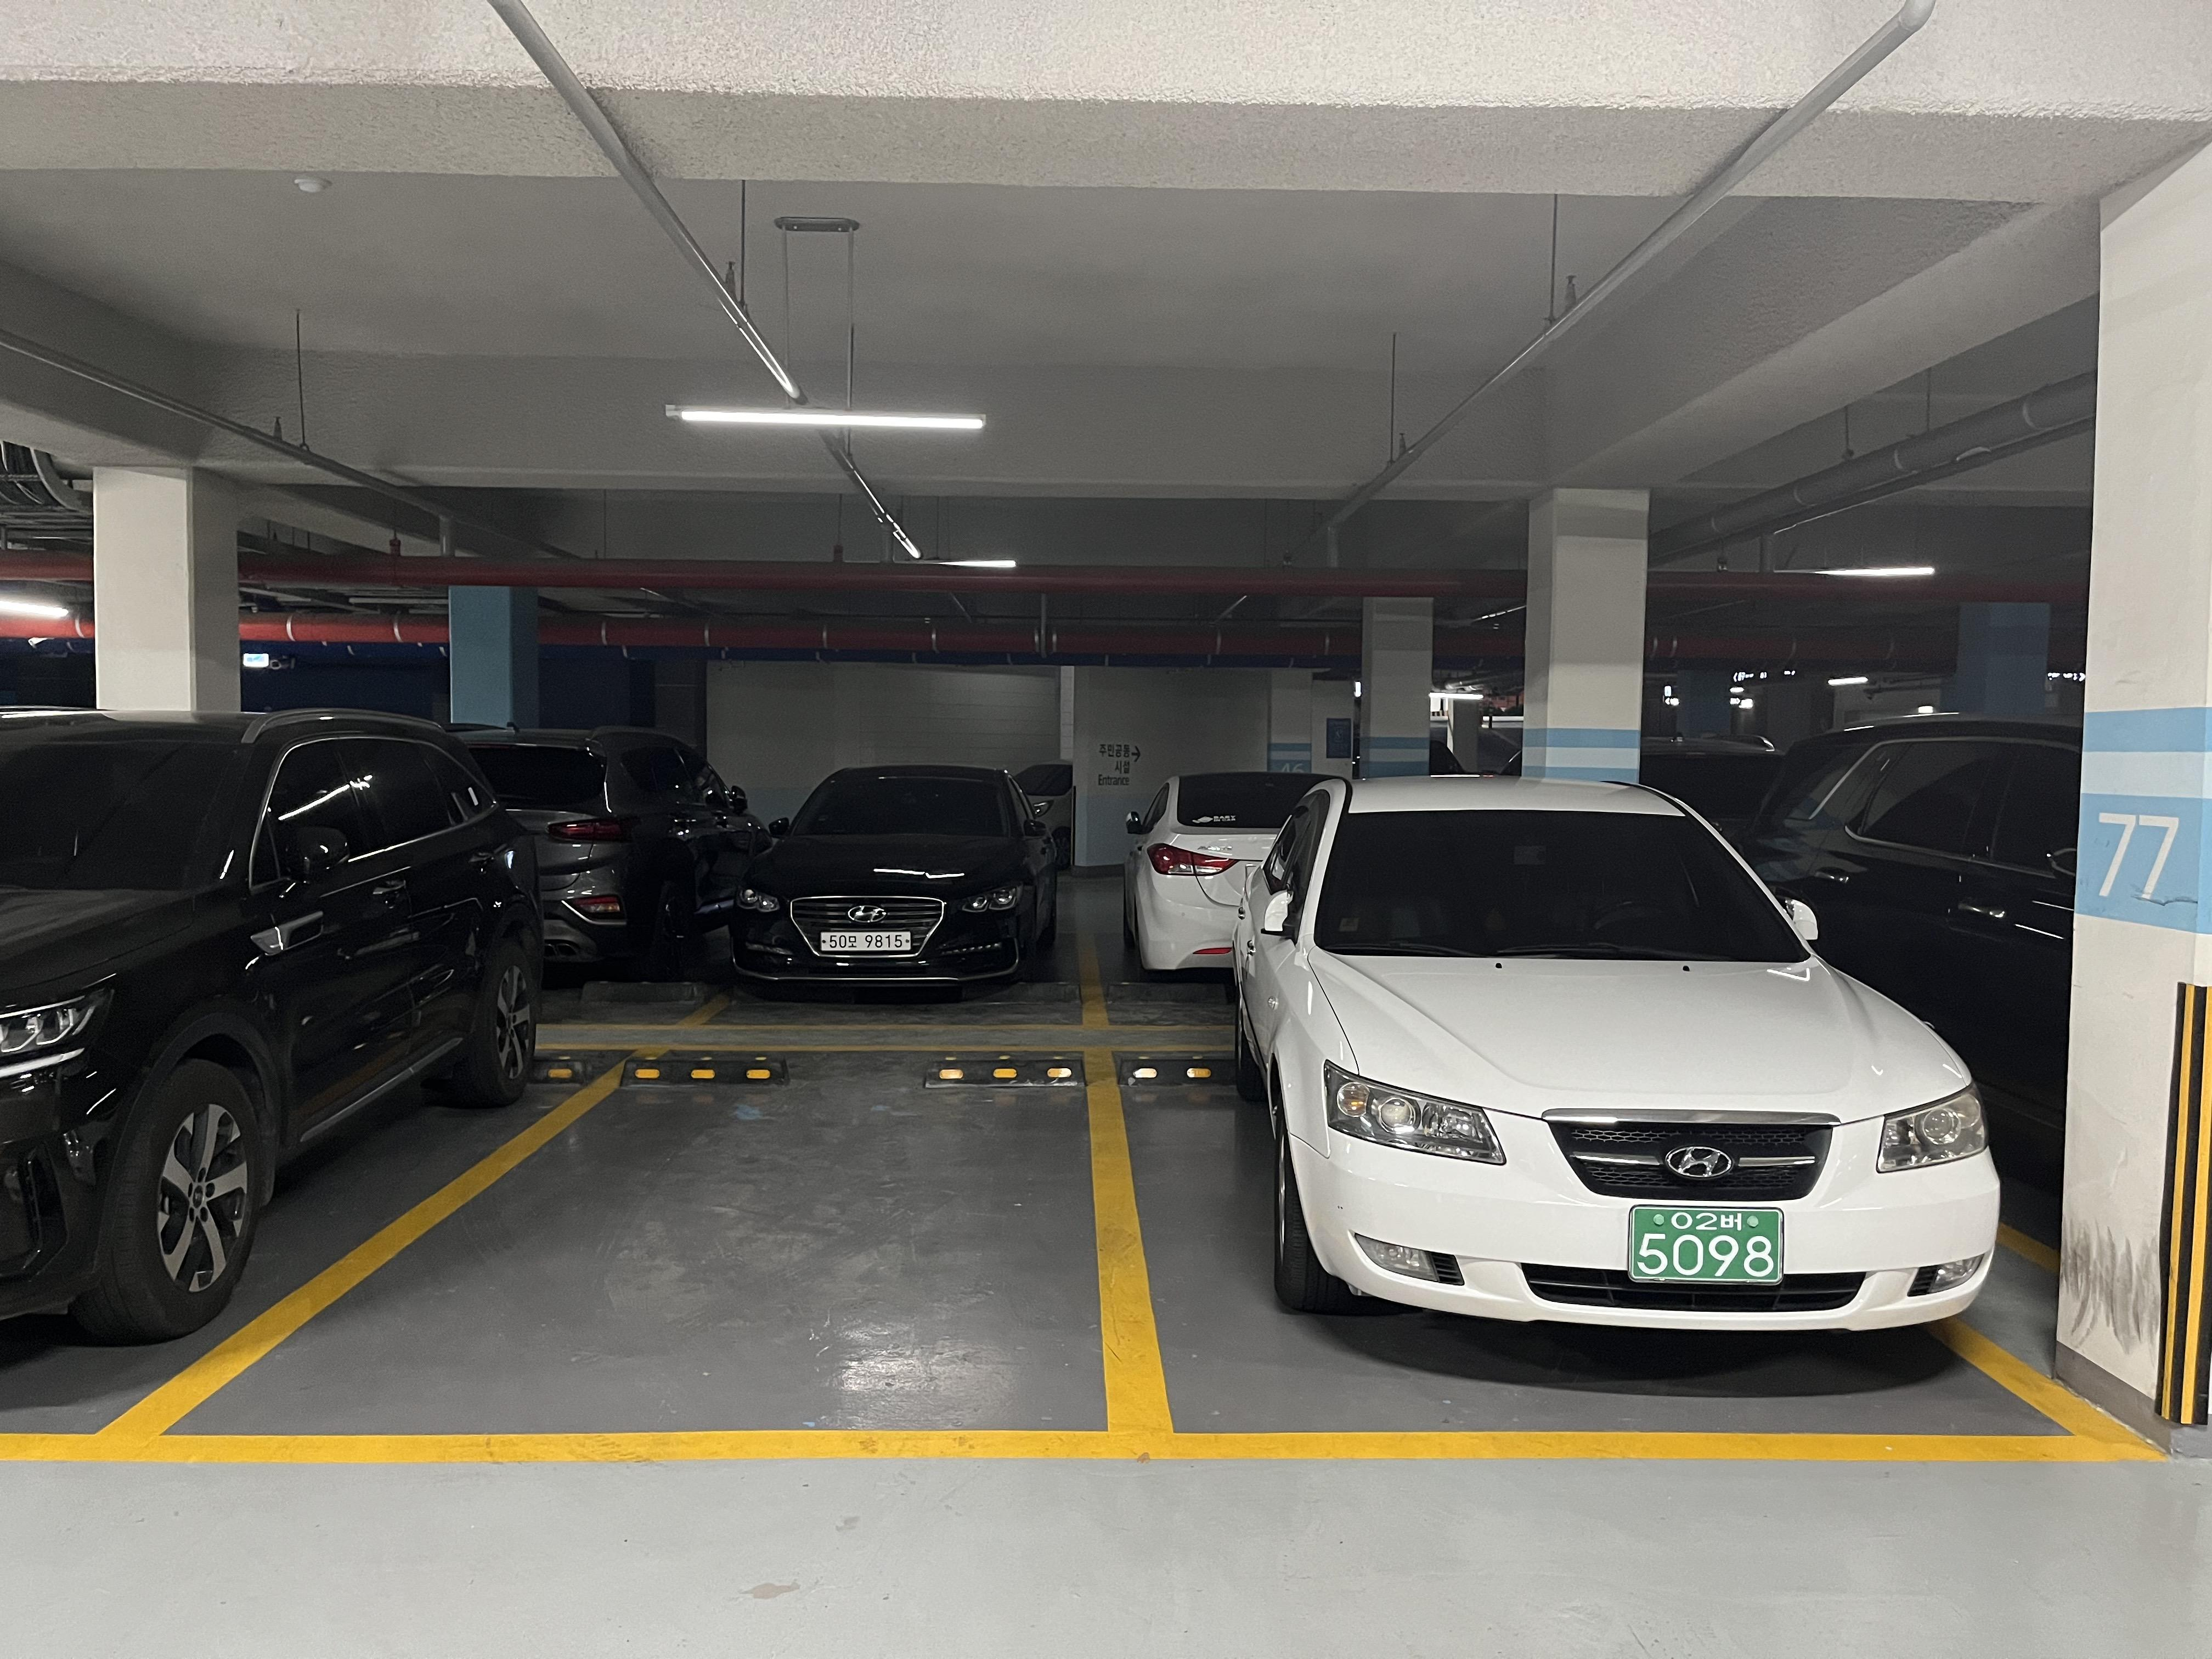empty: (65, 1040, 1182, 1479)
occupied: (1207, 733, 2057, 1479)
